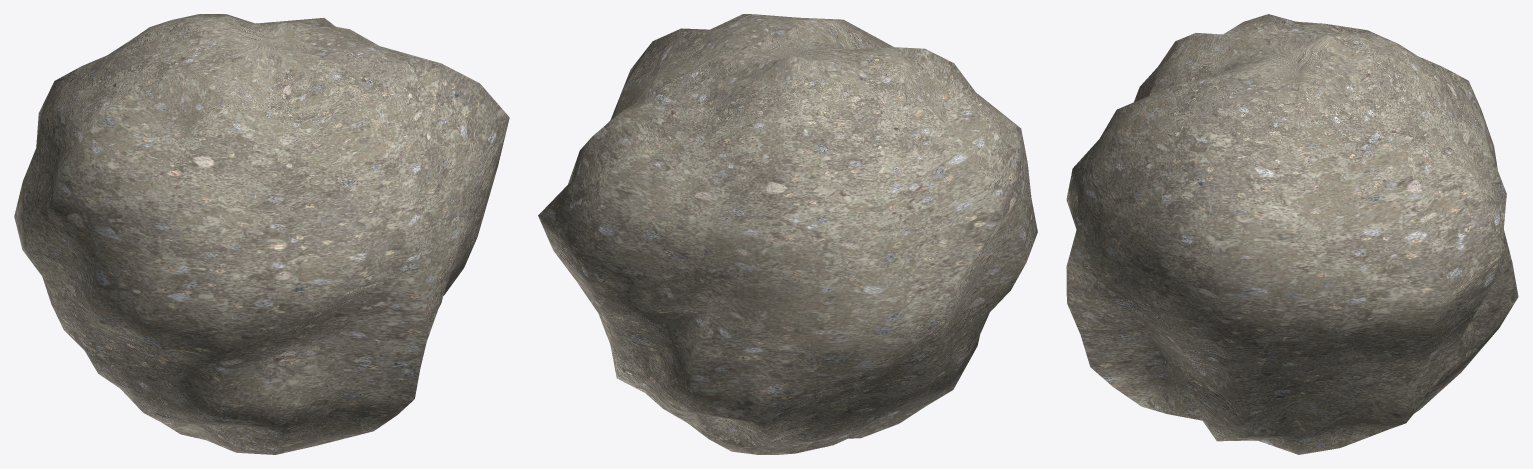
File: stone 2.fbx
The picture shows the model from 3 angles, left to right: view 1: azimuth 30°, elevation 25°; view 2: azimuth 150°, elevation 25°; view 3: azimuth 270°, elevation 25°; orthographic projection. The views are drawn at different scales.
Parts seen in each view (by area): view 1: pSphere2; view 2: pSphere2; view 3: pSphere2.
Part boxes in pixels (x1,y1,x2,y2): pSphere2: (14,14,509,454); pSphere2: (538,14,1037,454); pSphere2: (1066,14,1518,454).
Bounding box in the file's own units: 69.16 × 63.69 × 66.88.
